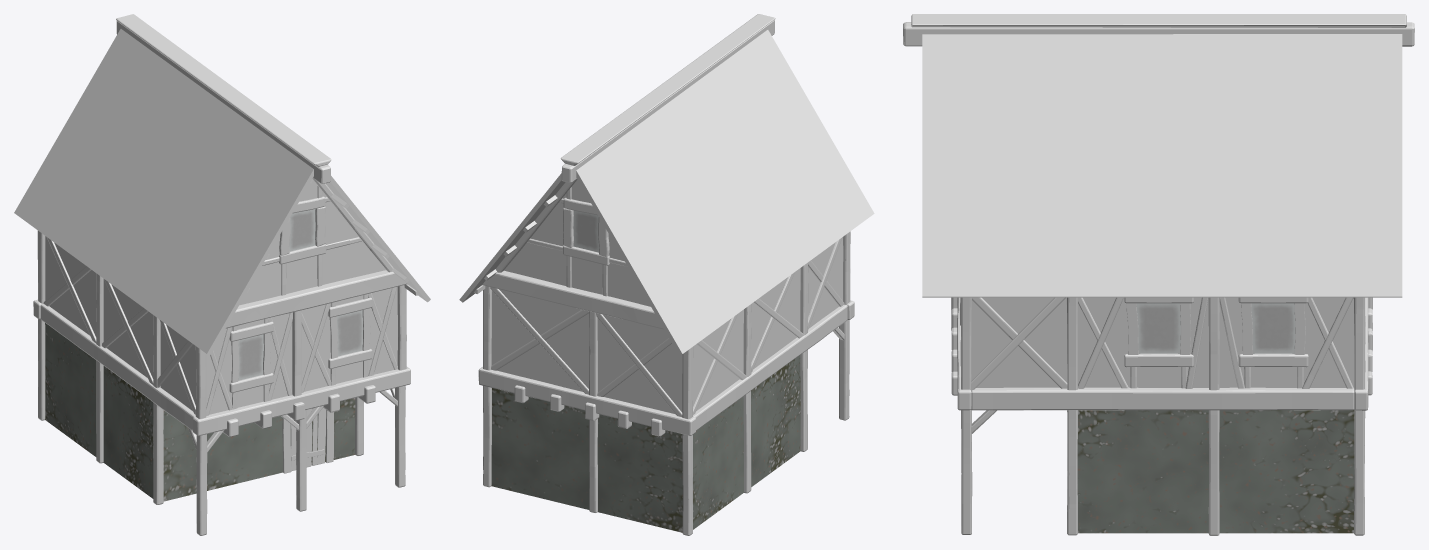
Rendered from house.fbx.
3 renders of one model, left to right at view 1: azimuth 30°, elevation 25°; view 2: azimuth 150°, elevation 25°; view 3: azimuth 270°, elevation 25°, orthographic. The views are drawn at different scales.
Visible parts, largest first — view 1: Walls, Wooden Carcass, Cobblestone Foundation, WindowFrames+Door, GlassPanes; view 2: Walls, Wooden Carcass, Cobblestone Foundation, WindowFrames+Door, GlassPanes; view 3: Walls, Wooden Carcass, Cobblestone Foundation, WindowFrames+Door, GlassPanes.
Part boxes in pixels (<box>): Walls: <box>14,29,430,414</box>; Wooden Carcass: <box>33,14,419,535</box>; Cobblestone Foundation: <box>45,323,355,501</box>; WindowFrames+Door: <box>229,196,372,473</box>; GlassPanes: <box>238,209,363,380</box>; Walls: <box>459,30,874,414</box>; Wooden Carcass: <box>474,14,854,535</box>; Cobblestone Foundation: <box>491,355,800,532</box>; WindowFrames+Door: <box>563,197,609,265</box>; GlassPanes: <box>573,210,599,252</box>; Walls: <box>922,34,1402,388</box>; Wooden Carcass: <box>903,14,1414,535</box>; Cobblestone Foundation: <box>1077,410,1354,533</box>; WindowFrames+Door: <box>1124,297,1308,367</box>; GlassPanes: <box>1136,303,1295,353</box>.
Bounding box in the file's own units: 455 × 708 × 722.
